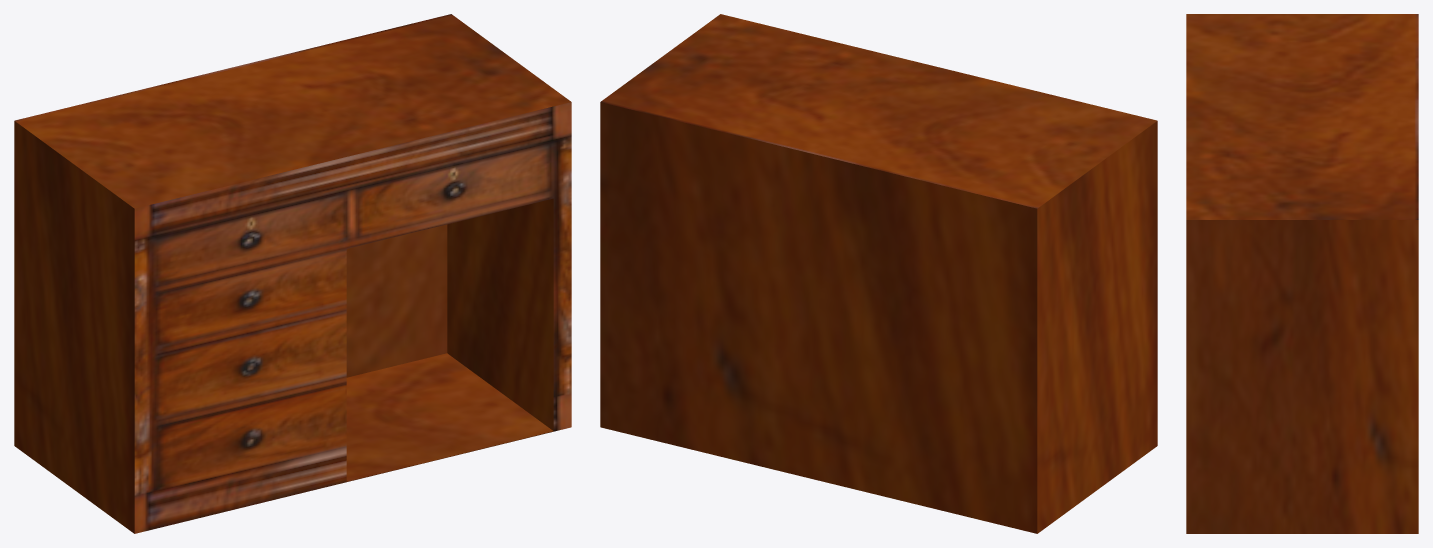
File: Deskw_hiding.fbx
The picture shows the model from 3 angles, left to right: view 1: azimuth 30°, elevation 25°; view 2: azimuth 150°, elevation 25°; view 3: azimuth 270°, elevation 25°; orthographic projection. The views are drawn at different scales.
Parts seen in each view (by area): view 1: drawers; view 2: drawers; view 3: drawers.
Part boxes in pixels (<box>): drawers: <box>14,14,571,533</box>; drawers: <box>600,14,1157,533</box>; drawers: <box>1186,14,1418,533</box>.
Size of the model in its own units: 131 by 92.86 by 62.23.
Materials: 1 (1 with a texture image).
